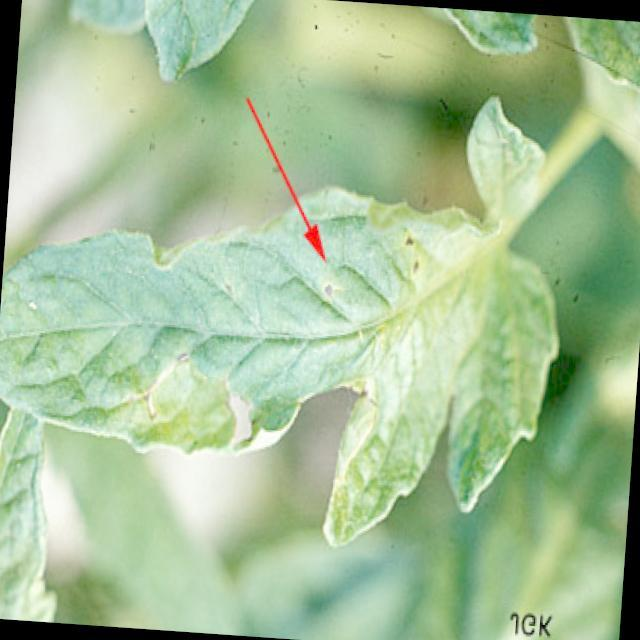Tomato bacterial spot leaf: (0, 58, 581, 562)
